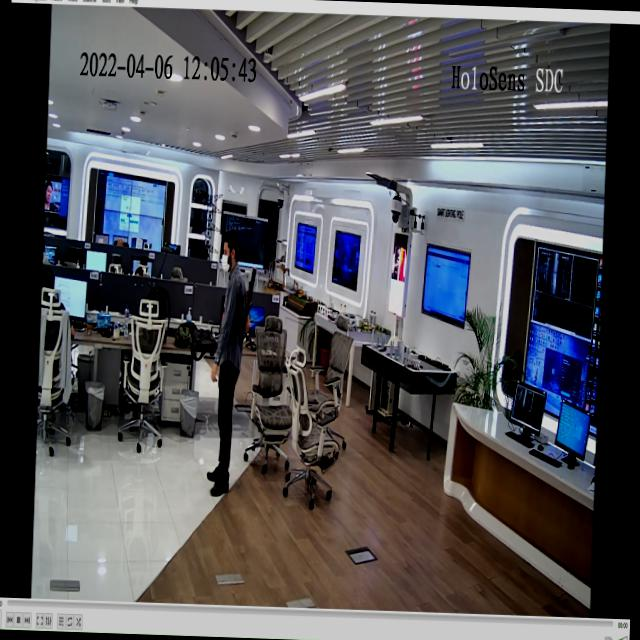long weapon: (234, 262, 260, 352)
